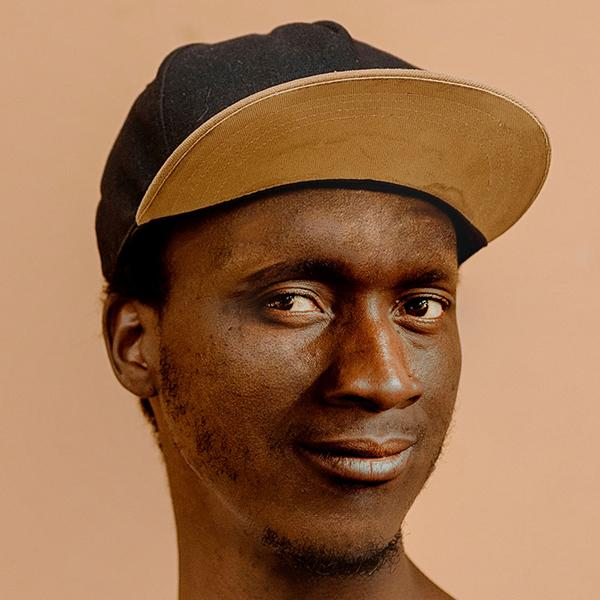Eyes: (243, 271, 339, 336), (383, 281, 459, 338)
